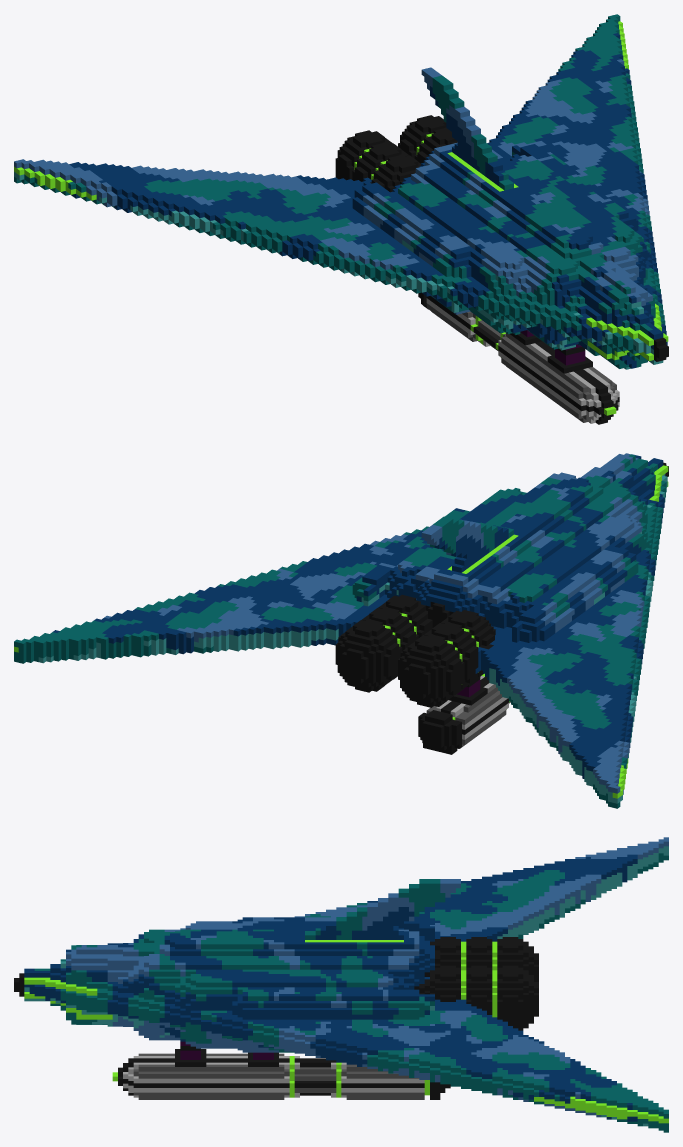
Rendered from BrandNewDroneEmit.obj.
3 renders of one model, top to bottom at view 1: azimuth 30°, elevation 25°; view 2: azimuth 150°, elevation 25°; view 3: azimuth 270°, elevation 25°, orthographic. The views are drawn at different scales.
Size of the model in its own units: 126 by 45 by 126.
1 material, 1 textured.
